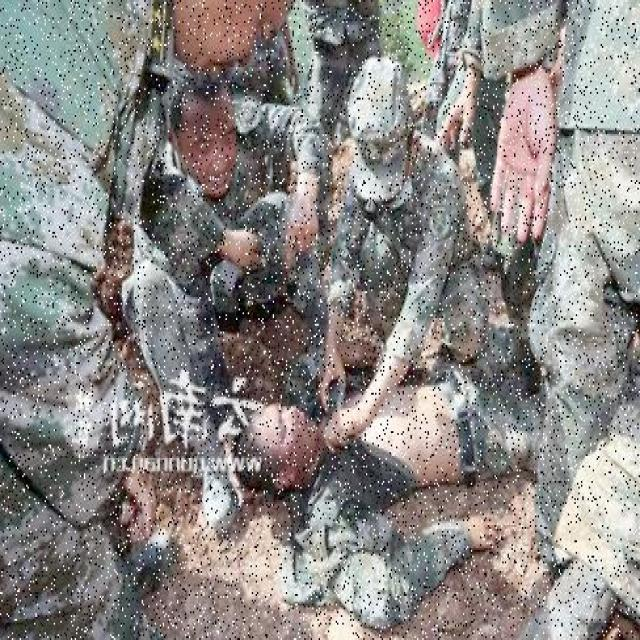fall: (260, 335, 528, 594)
